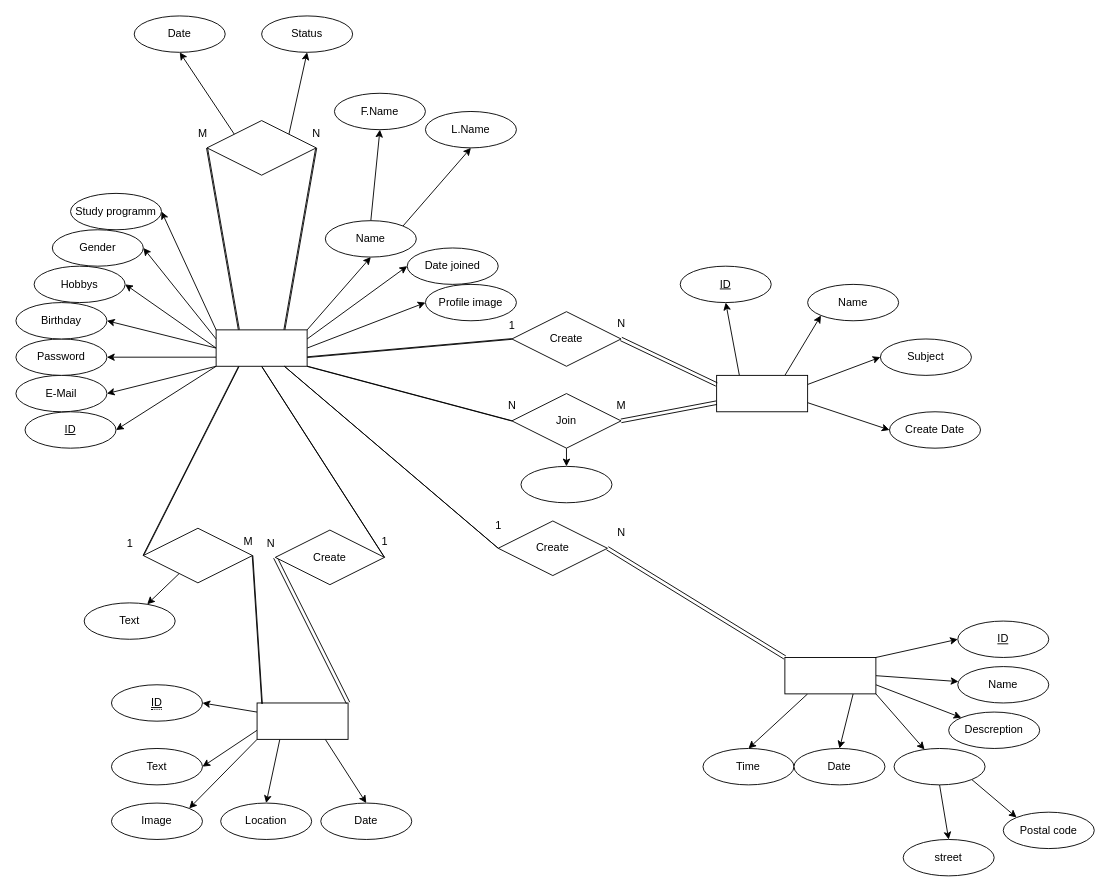
The diagram is 1110 pixels wide and 892 high, and some of its shapes have lost their labels. Each missing label, with the box of its shape:
Adress: (893, 748, 985, 785)
Comment: (142, 527, 253, 583)
Events: (784, 657, 876, 694)
Frendship: (206, 120, 316, 175)
Join Date: (520, 465, 612, 503)
Post: (256, 702, 348, 739)
Student: (215, 329, 307, 366)
Study Grups: (716, 374, 808, 412)
